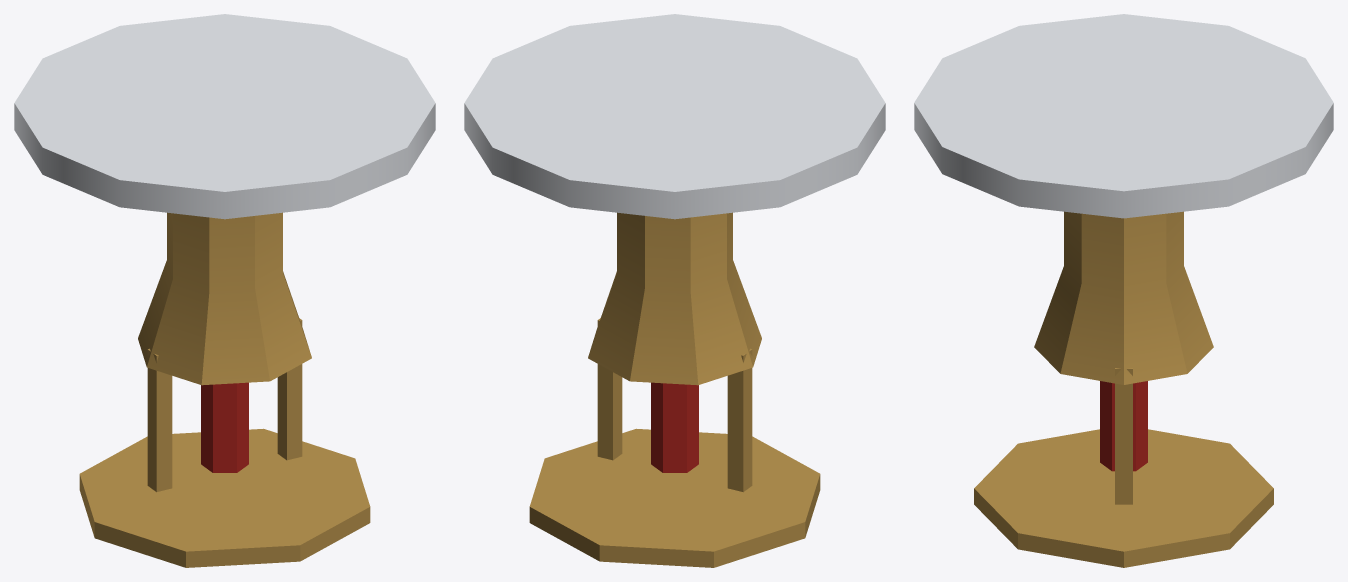
File: safety_sprinkler_head.glb
The picture shows the model from 3 angles, left to right: view 1: azimuth 30°, elevation 25°; view 2: azimuth 150°, elevation 25°; view 3: azimuth 270°, elevation 25°; orthographic projection.
Parts seen in each view (by area): view 1: safety_sprinkler_head; view 2: safety_sprinkler_head; view 3: safety_sprinkler_head.
Boxes of the visible parts, <box> form: safety_sprinkler_head: <box>14,14,435,567</box>; safety_sprinkler_head: <box>464,14,885,567</box>; safety_sprinkler_head: <box>914,14,1333,567</box>.
Size of the model in its own units: 0.14 by 0.148 by 0.14.
